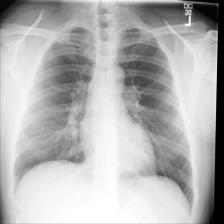normal: (7, 17, 197, 218)
